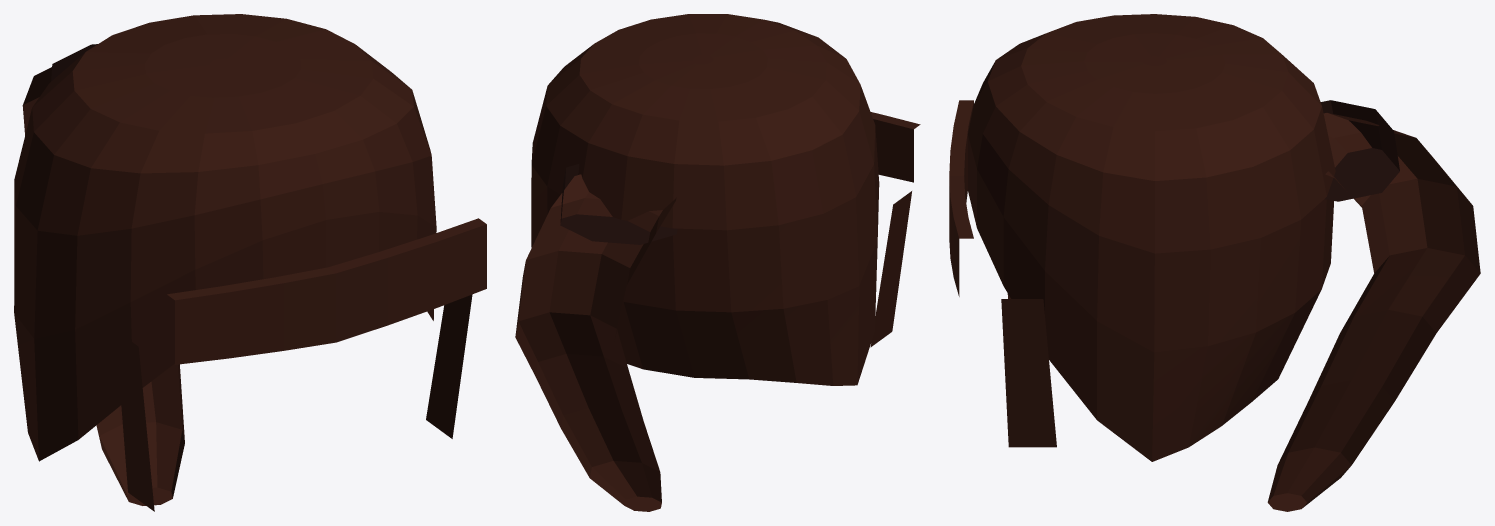
The model's file is hair_girl_ponytail_01.glb.
3 views of the same model, side by side, from view 1: azimuth 30°, elevation 25°; view 2: azimuth 150°, elevation 25°; view 3: azimuth 270°, elevation 25° (orthographic). The views are drawn at different scales.
Parts seen in each view (by area): view 1: HairCap, HairFringe, HairSideLocks, PonytailRigid; view 2: HairCap, PonytailRigid, HairSideLocks, PonytailTie, HairFringe; view 3: HairCap, PonytailRigid, HairSideLocks, PonytailTie, HairFringe.
Boxes of the visible parts, box(x1,y1,x2,y2) form: HairCap: box(14, 14, 436, 461); HairFringe: box(167, 218, 486, 364); HairSideLocks: box(115, 294, 472, 511); PonytailRigid: box(22, 67, 184, 505); HairCap: box(531, 14, 879, 385); PonytailRigid: box(515, 174, 676, 511); HairSideLocks: box(870, 191, 911, 347); PonytailTie: box(560, 164, 677, 244); HairFringe: box(870, 112, 920, 182); HairCap: box(968, 14, 1335, 461); PonytailRigid: box(1267, 113, 1480, 511); HairSideLocks: box(1001, 293, 1056, 447); PonytailTie: box(1320, 100, 1399, 201); HairFringe: box(949, 100, 973, 296).
Bounding box in the file's own units: 0.32 × 0.393 × 0.429.
